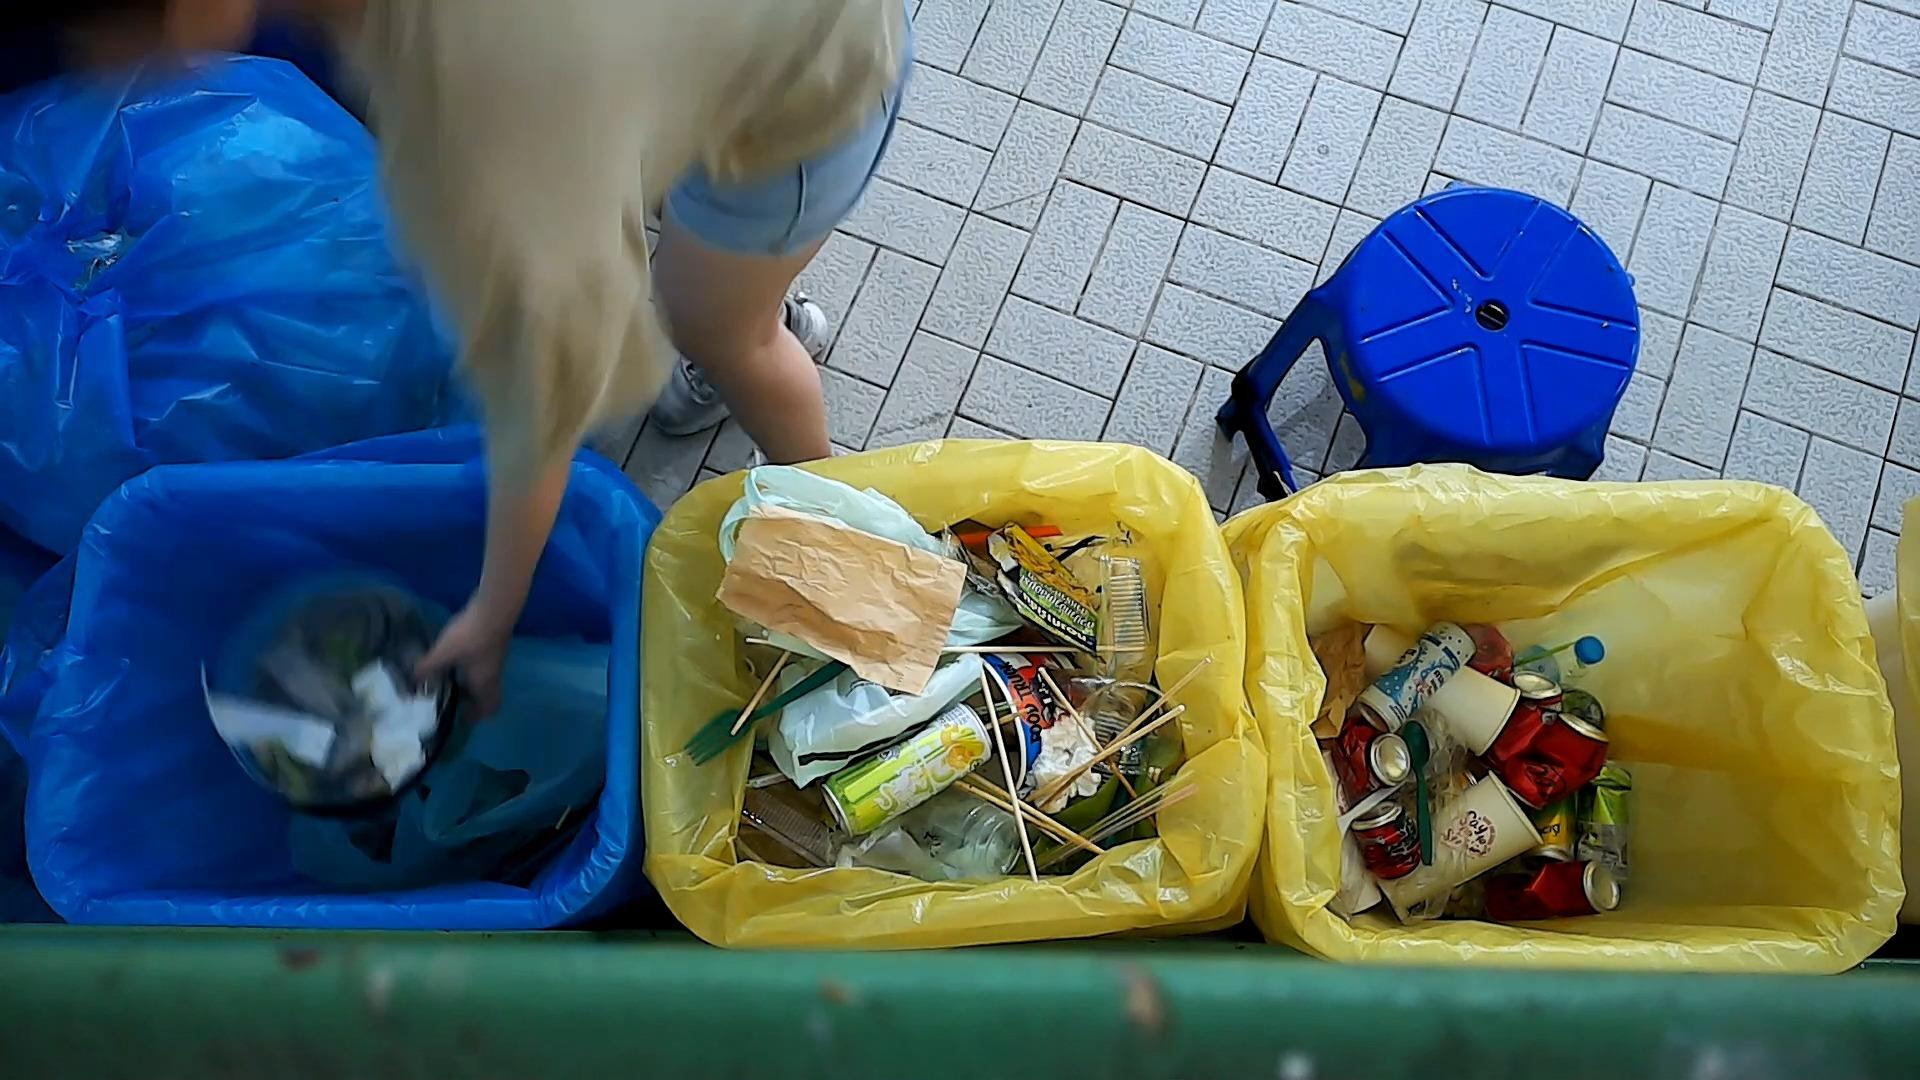can: (824, 698, 996, 841), (1357, 620, 1482, 735), (1491, 715, 1621, 806), (1486, 848, 1630, 927), (1473, 667, 1565, 785), (1565, 758, 1643, 894), (1316, 717, 1420, 791), (1353, 804, 1437, 885), (1523, 787, 1576, 870)
dirty food container: (212, 578, 477, 810)
filled plastic bag: (717, 462, 1018, 657), (440, 636, 622, 862), (749, 651, 1001, 783), (273, 778, 458, 893)
food container: (956, 628, 1089, 790), (1073, 547, 1159, 675)
paper bag: (712, 498, 971, 698), (1311, 617, 1373, 746)
plastic bottle: (1515, 626, 1618, 694)
plastic cup: (909, 785, 1034, 894)
plastic cutlery: (676, 658, 848, 769), (1402, 719, 1443, 868), (1340, 781, 1418, 840)
snack packaging: (992, 506, 1101, 663)
sticks: (1026, 642, 1204, 808), (985, 661, 1056, 890), (943, 766, 1110, 862), (901, 637, 1129, 676), (728, 647, 789, 740)
straw: (1011, 748, 1213, 885), (945, 516, 1068, 550)
tissue paper: (193, 665, 335, 773), (349, 653, 447, 782), (1029, 703, 1105, 808)
zero waste cup: (1353, 622, 1530, 766), (1377, 767, 1545, 909)
